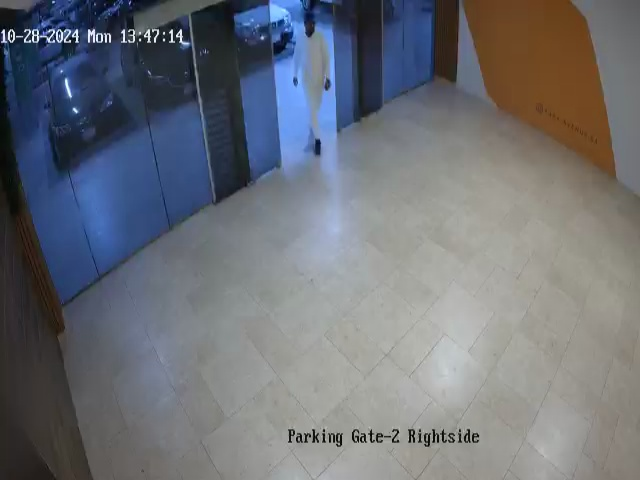male: (291, 12, 332, 156)
